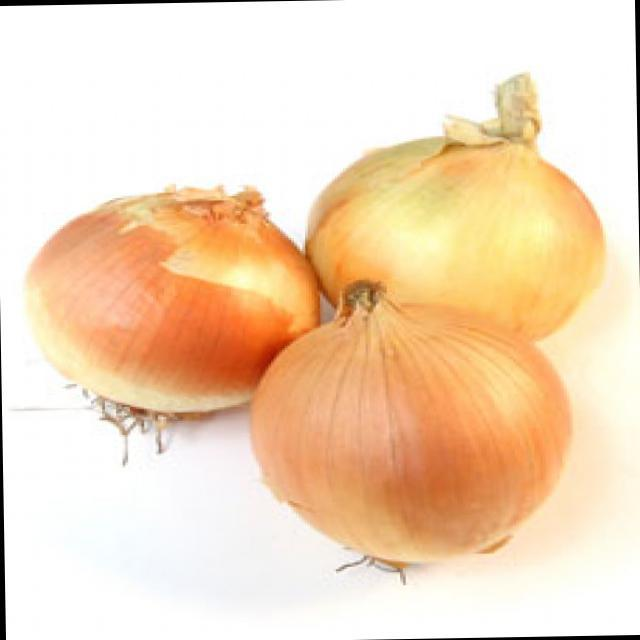ONIONS: (250, 308, 570, 562), (25, 177, 289, 425), (300, 126, 612, 334)
